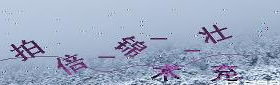chinese: (115, 31, 148, 62), (206, 58, 244, 84), (199, 23, 236, 48), (54, 51, 86, 79), (11, 37, 45, 62), (151, 60, 184, 84)
